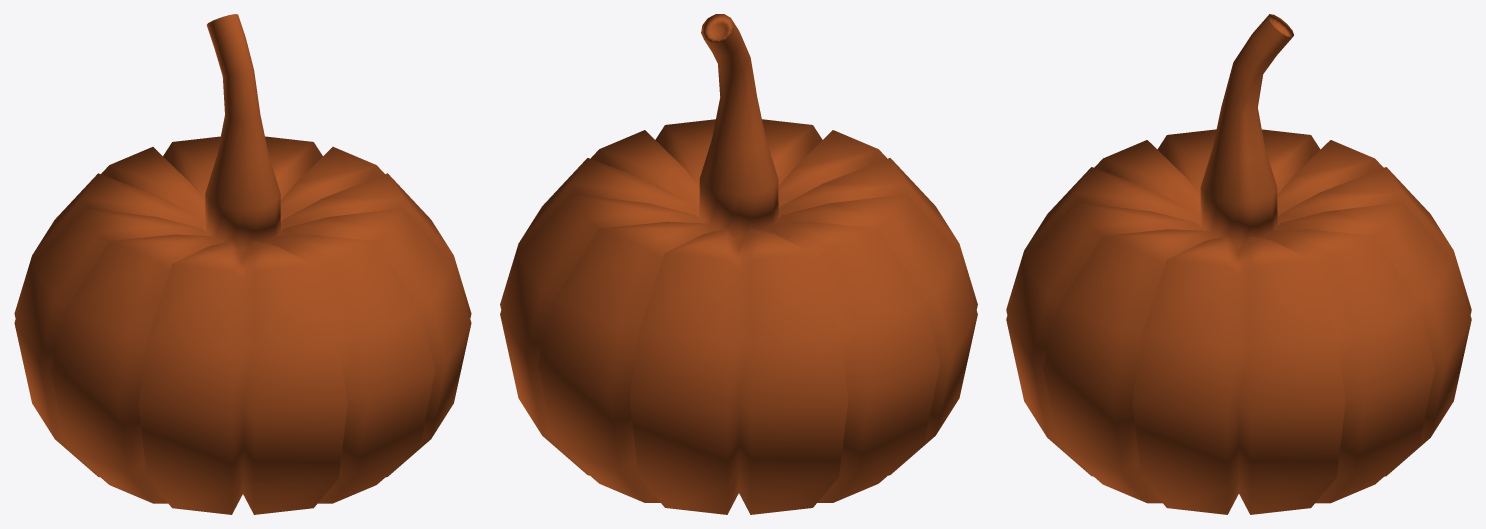
The model's file is Pumpkim.fbx.
The picture shows the model from 3 angles, left to right: view 1: azimuth 30°, elevation 25°; view 2: azimuth 150°, elevation 25°; view 3: azimuth 270°, elevation 25°; orthographic projection. The views are drawn at different scales.
Visible parts, largest first — view 1: Pumpkin_GEO; view 2: Pumpkin_GEO; view 3: Pumpkin_GEO.
Boxes of the visible parts, box(x1,y1,x2,y2) form: Pumpkin_GEO: box(14, 14, 471, 514); Pumpkin_GEO: box(500, 14, 977, 514); Pumpkin_GEO: box(1006, 14, 1471, 514).
Bounding box in the file's own units: 67.41 × 75.96 × 67.41.
